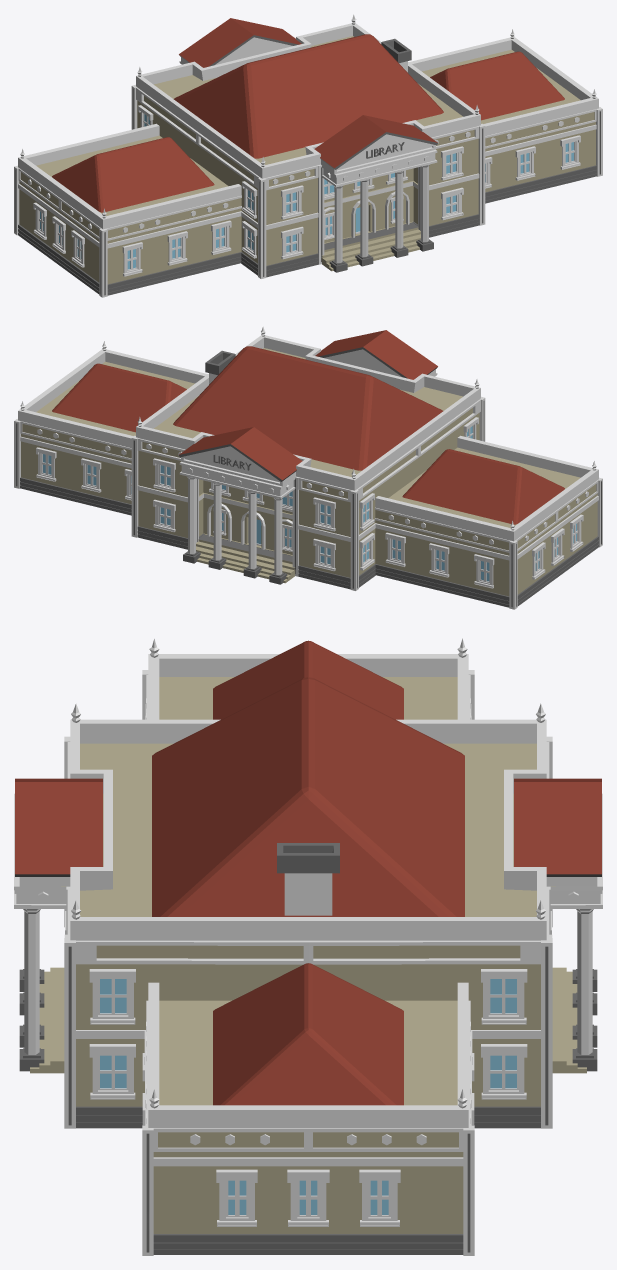
The model's file is library.glb.
3 views of the same model, one above another, from view 1: azimuth 30°, elevation 25°; view 2: azimuth 150°, elevation 25°; view 3: azimuth 270°, elevation 25° (orthographic). The views are drawn at different scales.
Parts seen in each view (by area): view 1: Library_Large_003; view 2: Library_Large_003; view 3: Library_Large_003.
Boxes of the visible parts, x1,y1,x2,y2 form: Library_Large_003: (14, 14, 602, 297); Library_Large_003: (14, 326, 602, 609); Library_Large_003: (14, 638, 602, 1255).
Bounding box in the file's own units: 127 × 37.77 × 68.63.
1 material, 1 textured.
